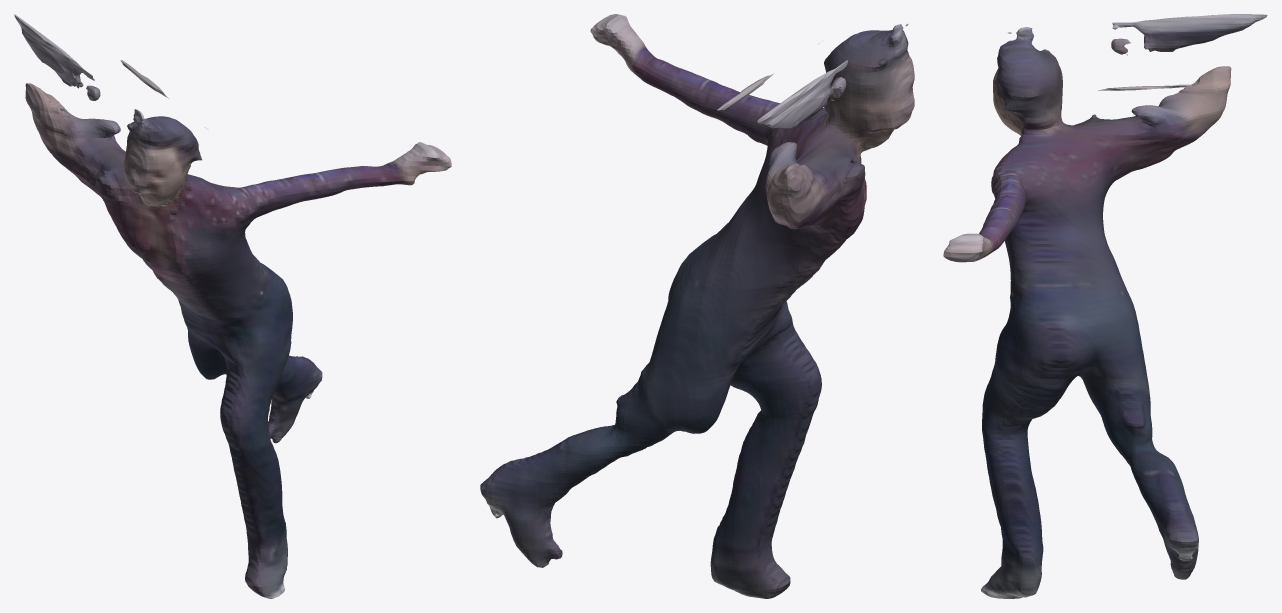
The model's file is 0105_tex.glb.
The picture shows the model from 3 angles, left to right: view 1: azimuth 30°, elevation 25°; view 2: azimuth 150°, elevation 25°; view 3: azimuth 270°, elevation 25°; orthographic projection. The views are drawn at different scales.
Parts seen in each view (by area): view 1: 0105_tex.obj; view 2: 0105_tex.obj; view 3: 0105_tex.obj.
Boxes of the visible parts, x1,y1,x2,y2 form: 0105_tex.obj: (14, 14, 451, 598); 0105_tex.obj: (480, 14, 914, 598); 0105_tex.obj: (943, 14, 1267, 598).
Size of the model in its own units: 0.5299 by 0.896 by 0.5074.
